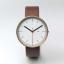watch: (15, 14, 51, 49)
